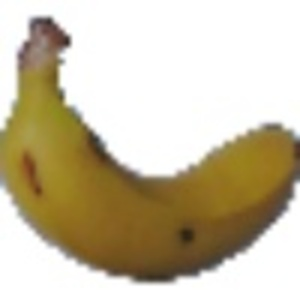banana: (7, 7, 298, 281)
